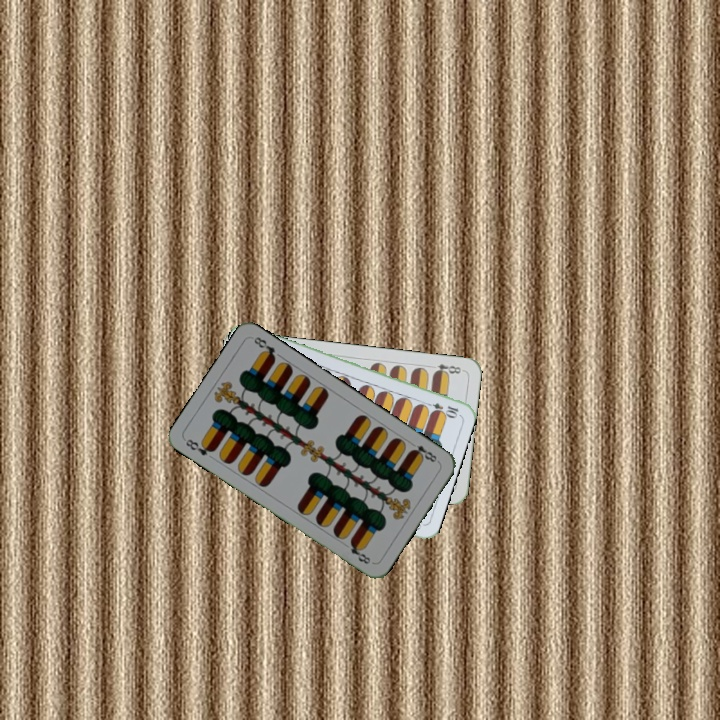E10: (421, 398, 461, 419)
E8: (406, 438, 441, 465), (181, 435, 217, 458), (430, 360, 466, 378)
